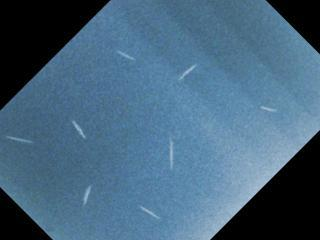scratch: (109, 43, 140, 66), (167, 132, 181, 171), (254, 100, 284, 118), (177, 63, 198, 81), (70, 118, 87, 139), (139, 205, 162, 220), (4, 134, 37, 144), (81, 184, 92, 206)
